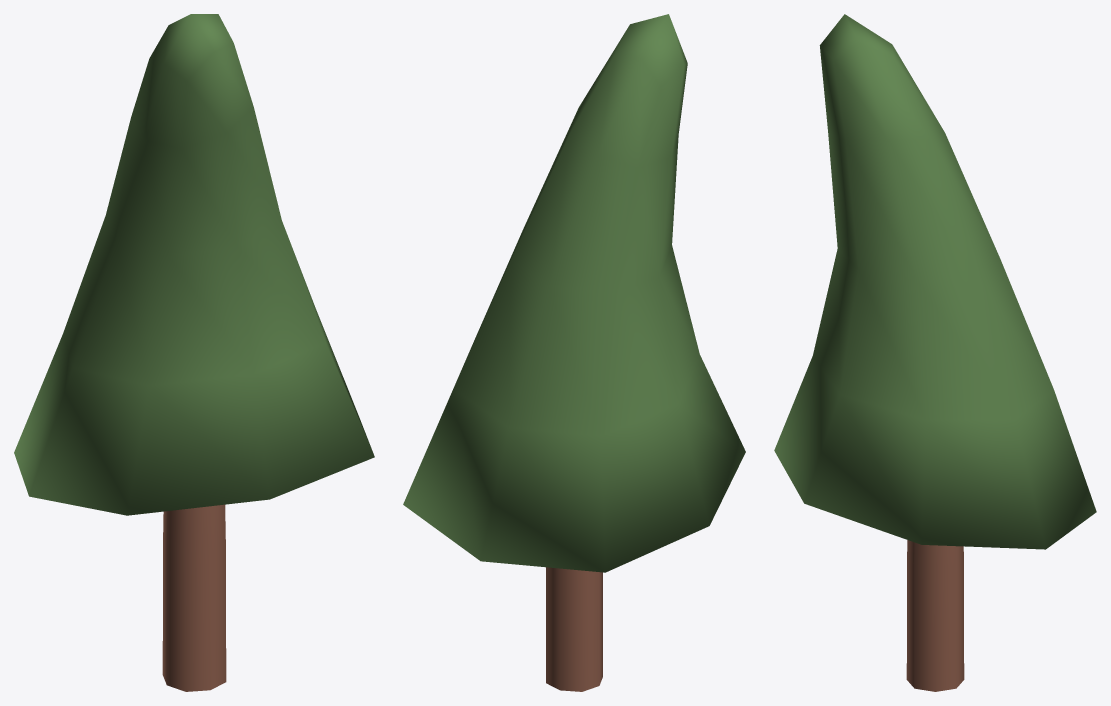
Rendered from TreeLarge3.fbx.
3 views of the same model, side by side, from view 1: azimuth 30°, elevation 25°; view 2: azimuth 150°, elevation 25°; view 3: azimuth 270°, elevation 25° (orthographic). The views are drawn at different scales.
Visible parts, largest first — view 1: TreeLarge3; view 2: TreeLarge3; view 3: TreeLarge3.
Boxes of the visible parts, x1=… form: TreeLarge3: x1=14, y1=14, x2=374, y2=691; TreeLarge3: x1=403, y1=14, x2=745, y2=691; TreeLarge3: x1=774, y1=14, x2=1096, y2=691.
Size of the model in its own units: 220 by 223 by 484.
